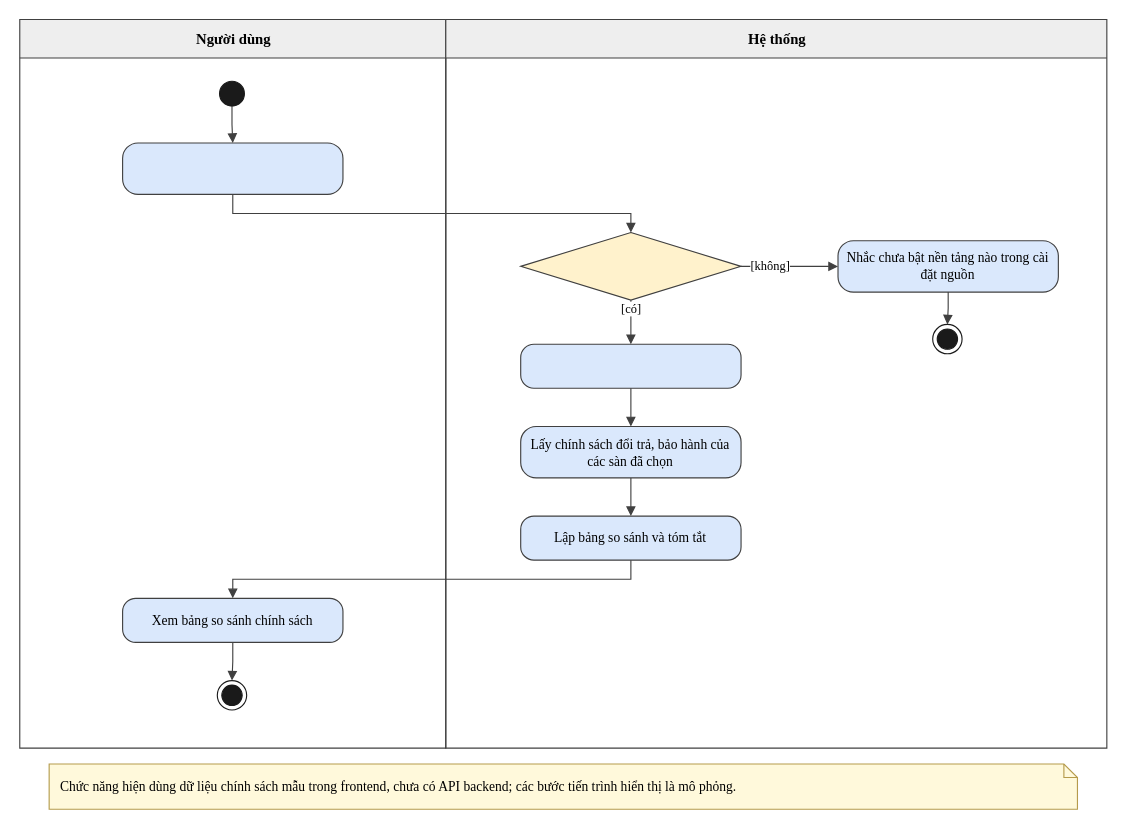
Image size: 1127x829. Some labels were removed from this diagram. Each missing label, with the centre of its shape:
Chọn các sàn, nhập sản phẩm cần tra cứu: (232,168)
Có sàn nào được bật?: (630,265)
Hiện các bước tiến trình: (630,365)
